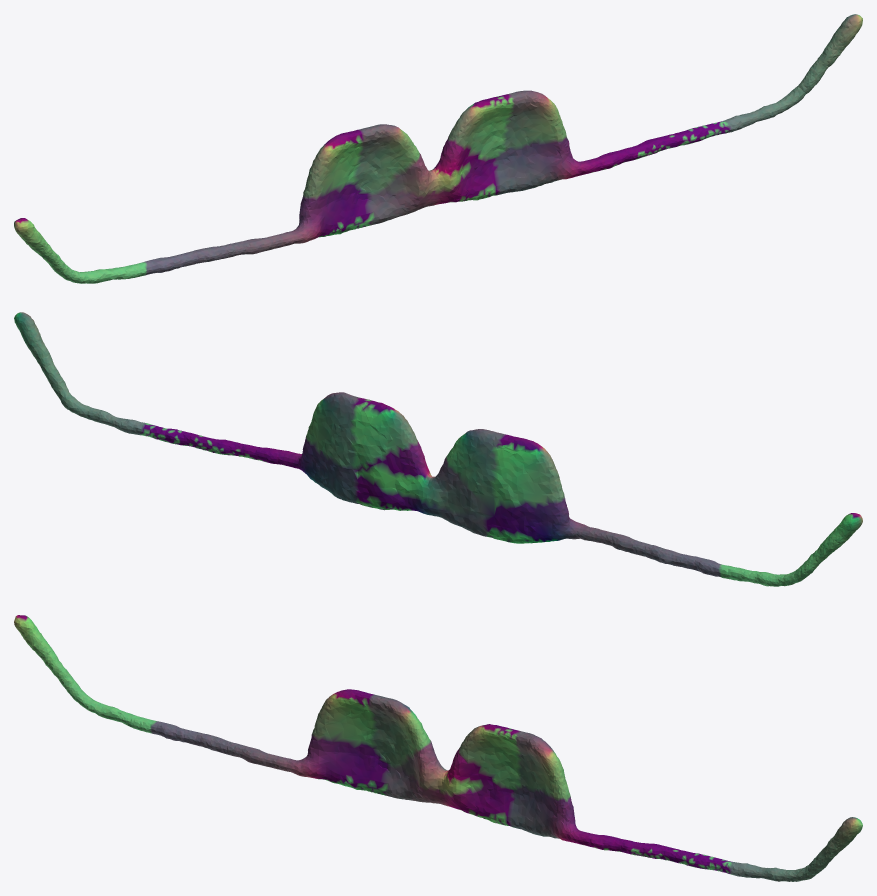
File: glasses-16.off.obj
3 views of the same model, one above another, from view 1: azimuth 30°, elevation 25°; view 2: azimuth 150°, elevation 25°; view 3: azimuth 330°, elevation 25° (orthographic).
Bounding box in the file's own units: 1.8 × 0.2074 × 0.0786.
